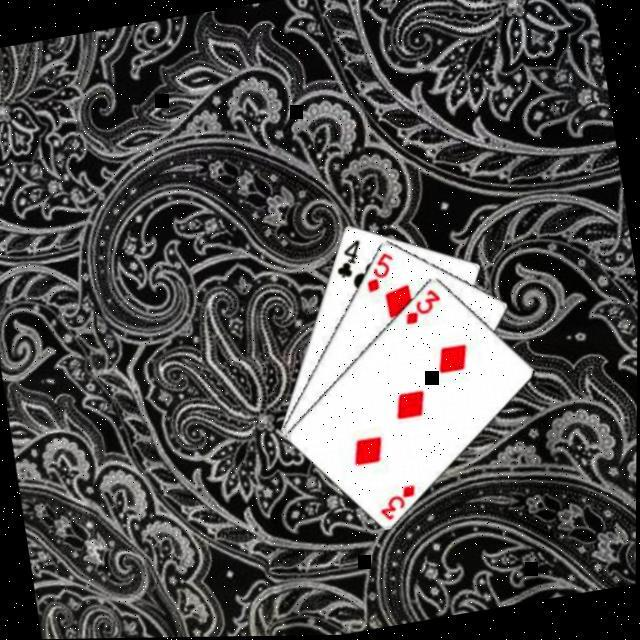3D: (374, 482, 422, 527), (398, 286, 446, 330)
4C: (330, 238, 368, 284)
5D: (358, 250, 401, 298)
